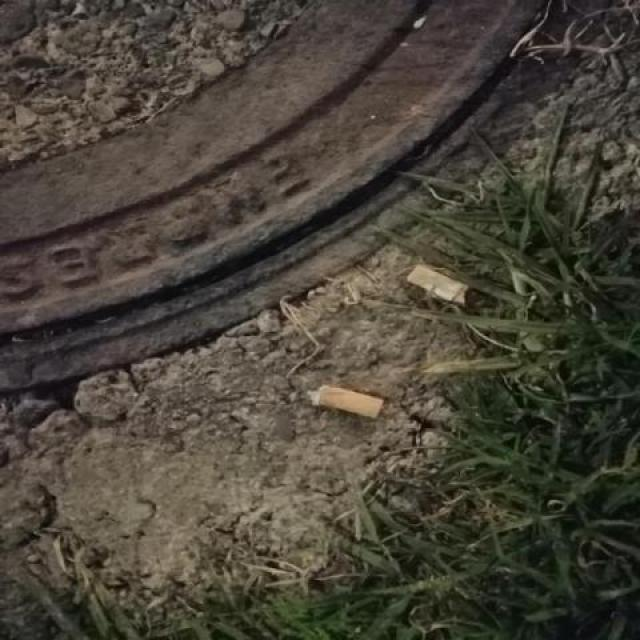non-organic waste: (307, 381, 390, 428), (401, 259, 472, 313)
